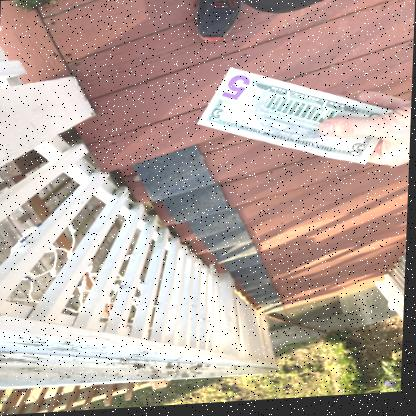five-back: (193, 69, 387, 168)
